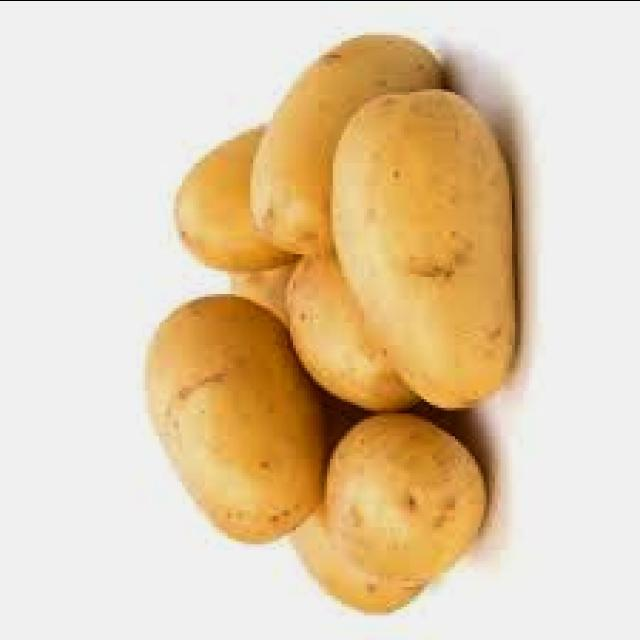Potato: (348, 80, 522, 400), (143, 276, 321, 542), (211, 26, 378, 266)
